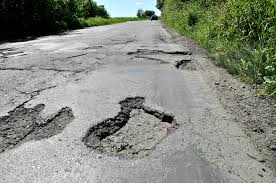pothole: (88, 94, 184, 163), (1, 100, 72, 161), (127, 41, 198, 78)
